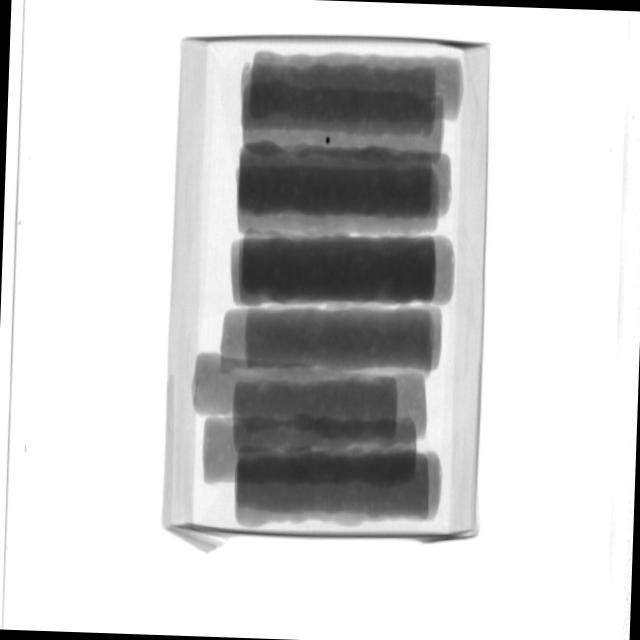ym: (326, 137, 332, 145)
